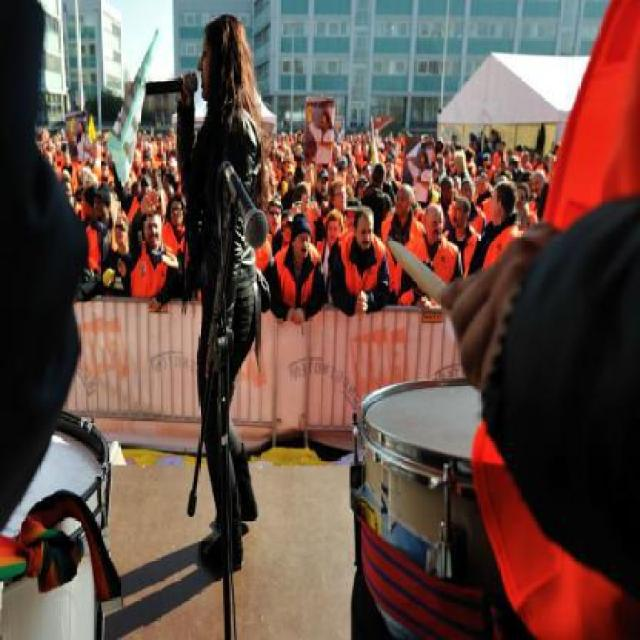Person: (168, 6, 261, 631), (449, 171, 514, 307), (388, 207, 464, 319), (324, 213, 394, 319), (262, 225, 324, 317), (75, 187, 117, 290), (134, 212, 178, 298), (162, 200, 200, 271), (95, 221, 134, 290)
